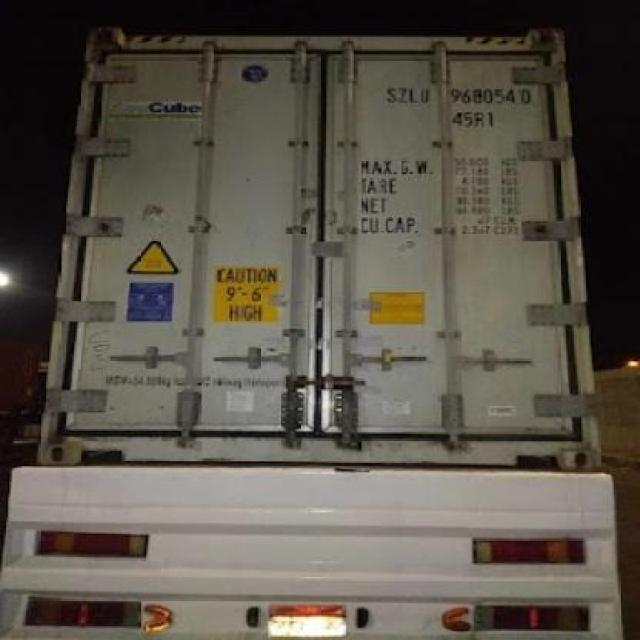ISO: (454, 109, 496, 130)
container_number: (386, 86, 537, 105)
